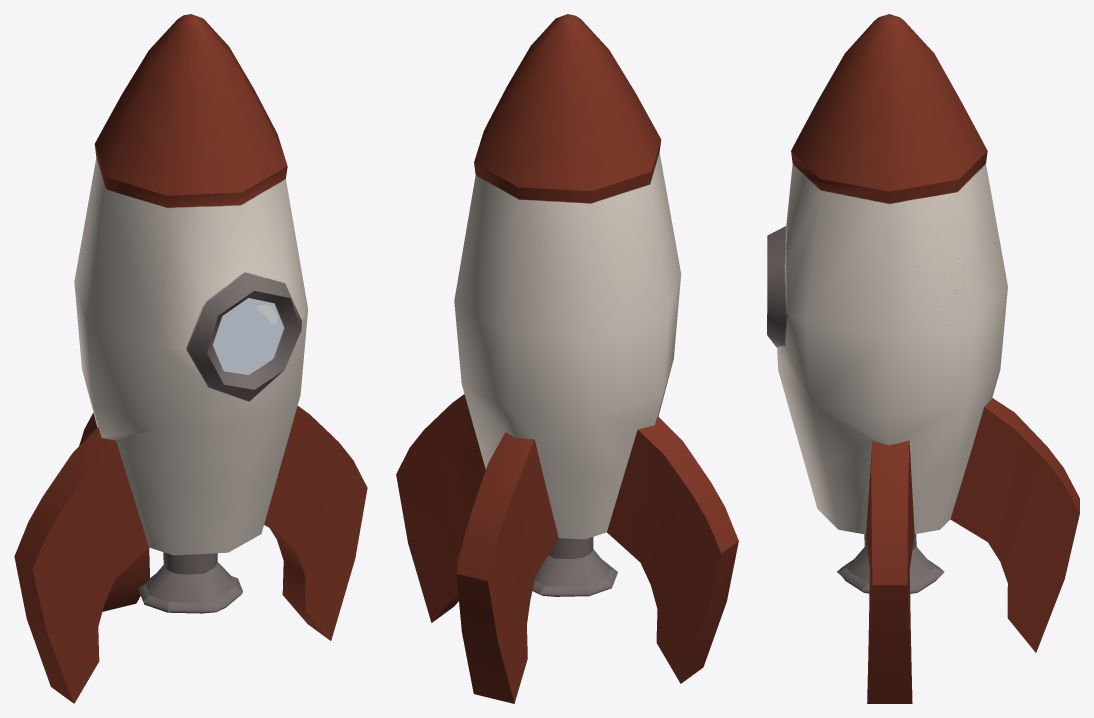
Rendered from RocketTextured.fbx.
3 views of the same model, side by side, from view 1: azimuth 30°, elevation 25°; view 2: azimuth 150°, elevation 25°; view 3: azimuth 270°, elevation 25° (orthographic). The views are drawn at different scales.
Visible parts, largest first — view 1: group2_Rocket1; view 2: group2_Rocket1; view 3: group2_Rocket1.
Boxes of the visible parts, x1,y1,x2,y2 form: group2_Rocket1: [14, 14, 367, 703]; group2_Rocket1: [396, 14, 738, 703]; group2_Rocket1: [767, 14, 1079, 703].
Bounding box in the file's own units: 82.86 × 154 × 69.2.
1 material, 1 textured.
